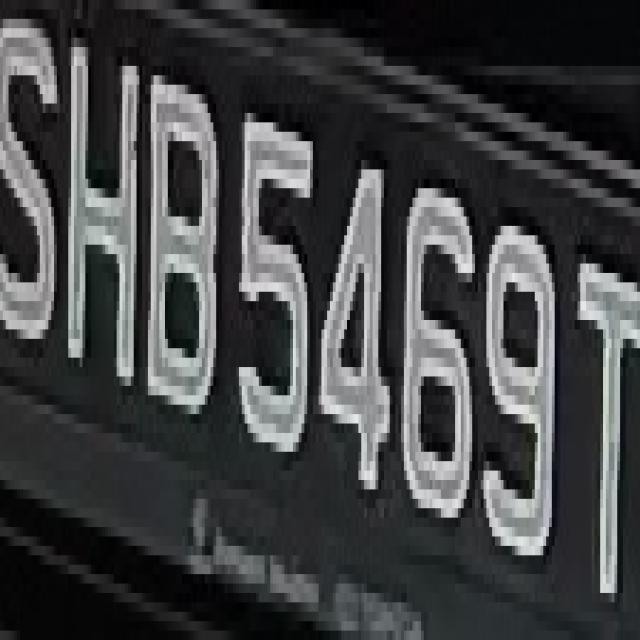4: (316, 94, 398, 537)
5: (225, 84, 313, 470)
6: (396, 160, 472, 555)
9: (480, 188, 558, 602)
B: (142, 38, 225, 480)
H: (60, 9, 148, 433)
S: (3, 0, 60, 386)
T: (569, 217, 640, 630)
